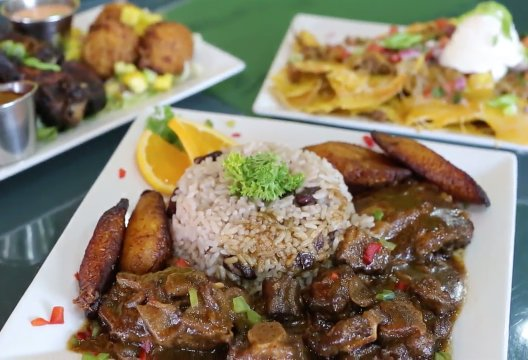curry: (221, 148, 305, 205)
pizza: (1, 1, 80, 59)
sushi: (0, 79, 39, 161)
